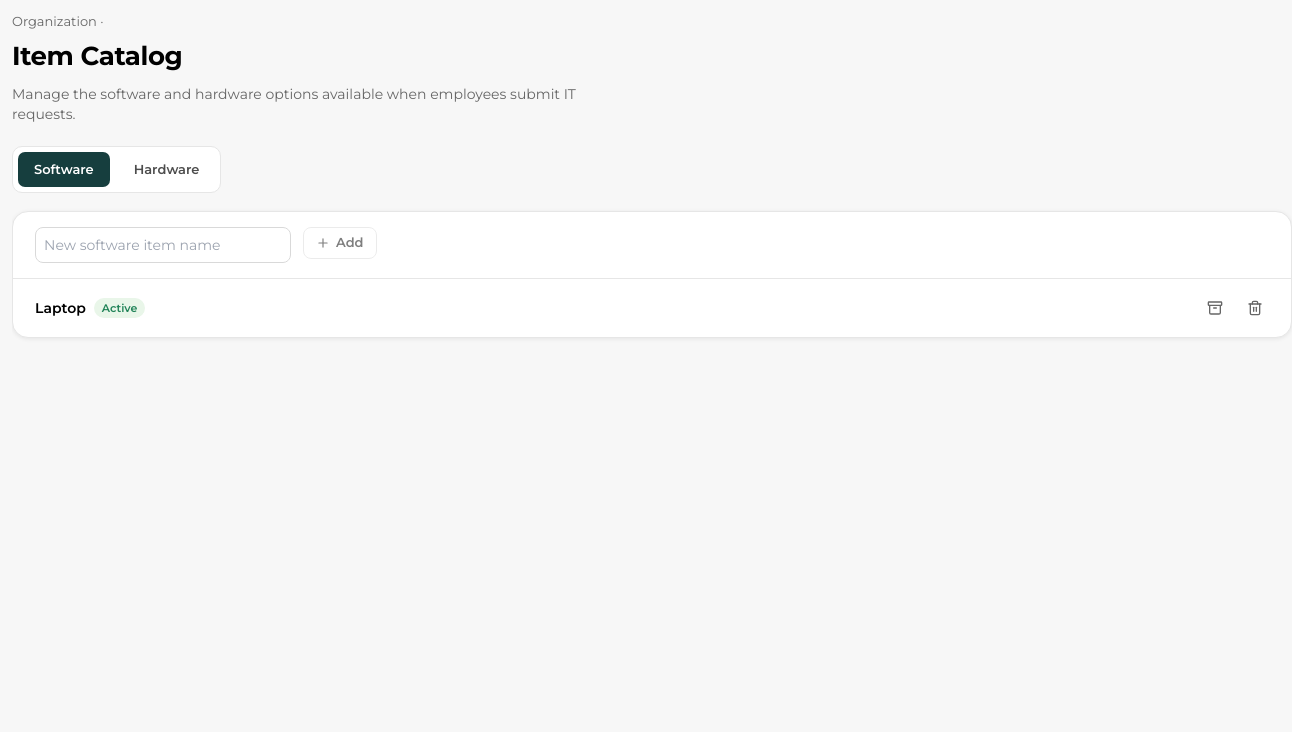
Test: archiving toggles the badge and shows a toast
The image size is (1292, 732).
Check: the text "Laptop" is shown, box [35,298,86,318]
Click the button named "Archive Laptop" at (1215,308), box [1201,294,1229,322]
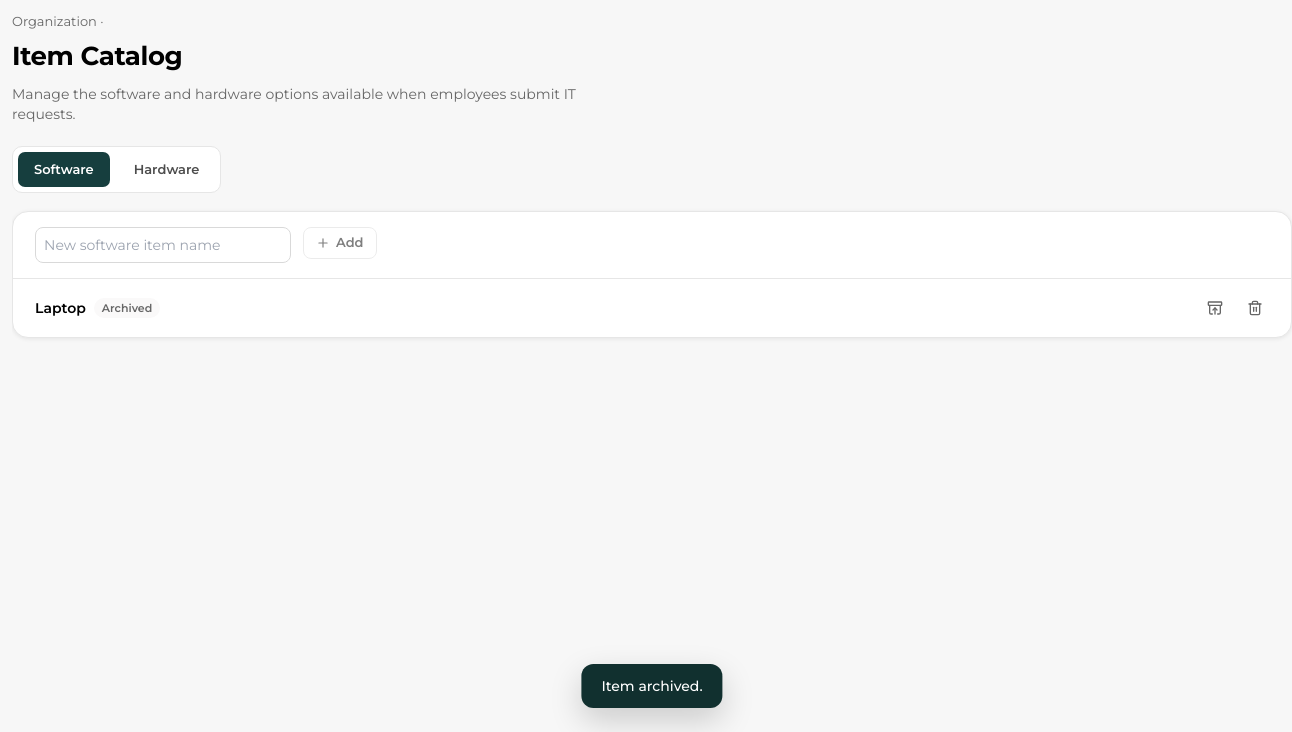
Check: the text "Item archived." is shown, box [581,664,723,708]
Check: the text "Archived" is shown, box [94,298,160,318]
